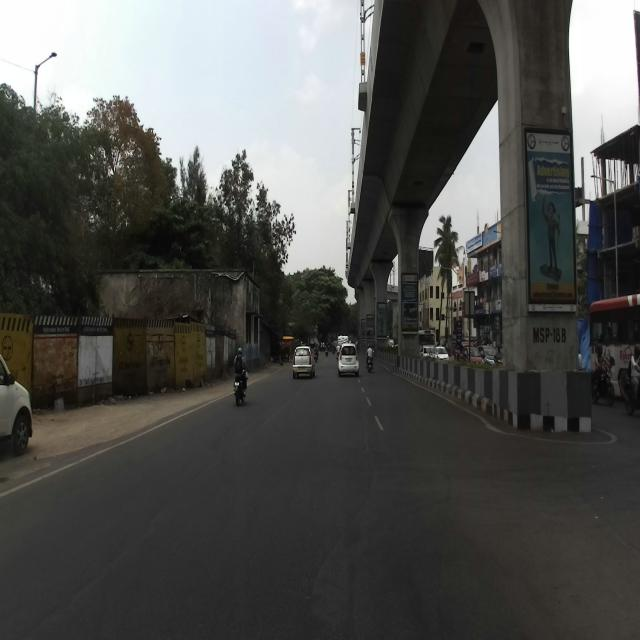car: (292, 344, 316, 378), (337, 342, 359, 376)
